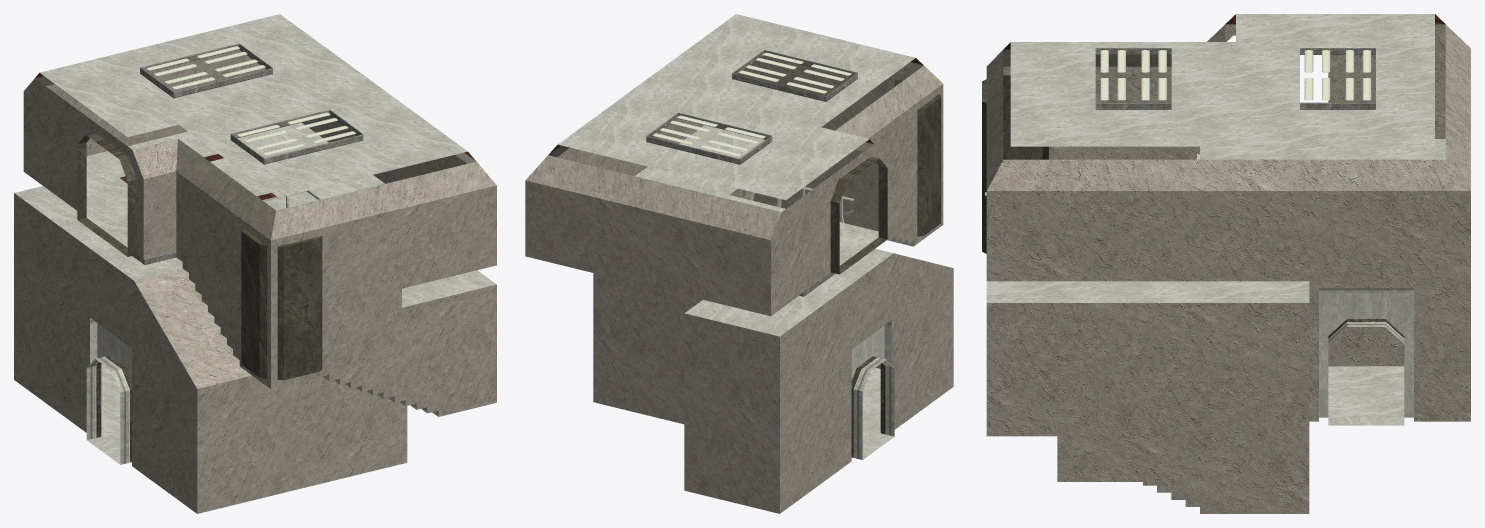
File: thm_tato_assoc_hall_civ_s01_r4_stairwella_mesh_stairwella.fbx
3 renders of one model, left to right at view 1: azimuth 30°, elevation 25°; view 2: azimuth 150°, elevation 25°; view 3: azimuth 270°, elevation 25°, orthographic. The views are drawn at different scales.
Visible parts, largest first — view 1: mesh_node; view 2: mesh_node; view 3: mesh_node.
Boxes of the visible parts, <box> form: mesh_node: <box>14,14,496,513</box>; mesh_node: <box>525,14,953,513</box>; mesh_node: <box>982,14,1470,513</box>.
Size of the model in its own units: 9.45 by 10.58 by 12.86.
